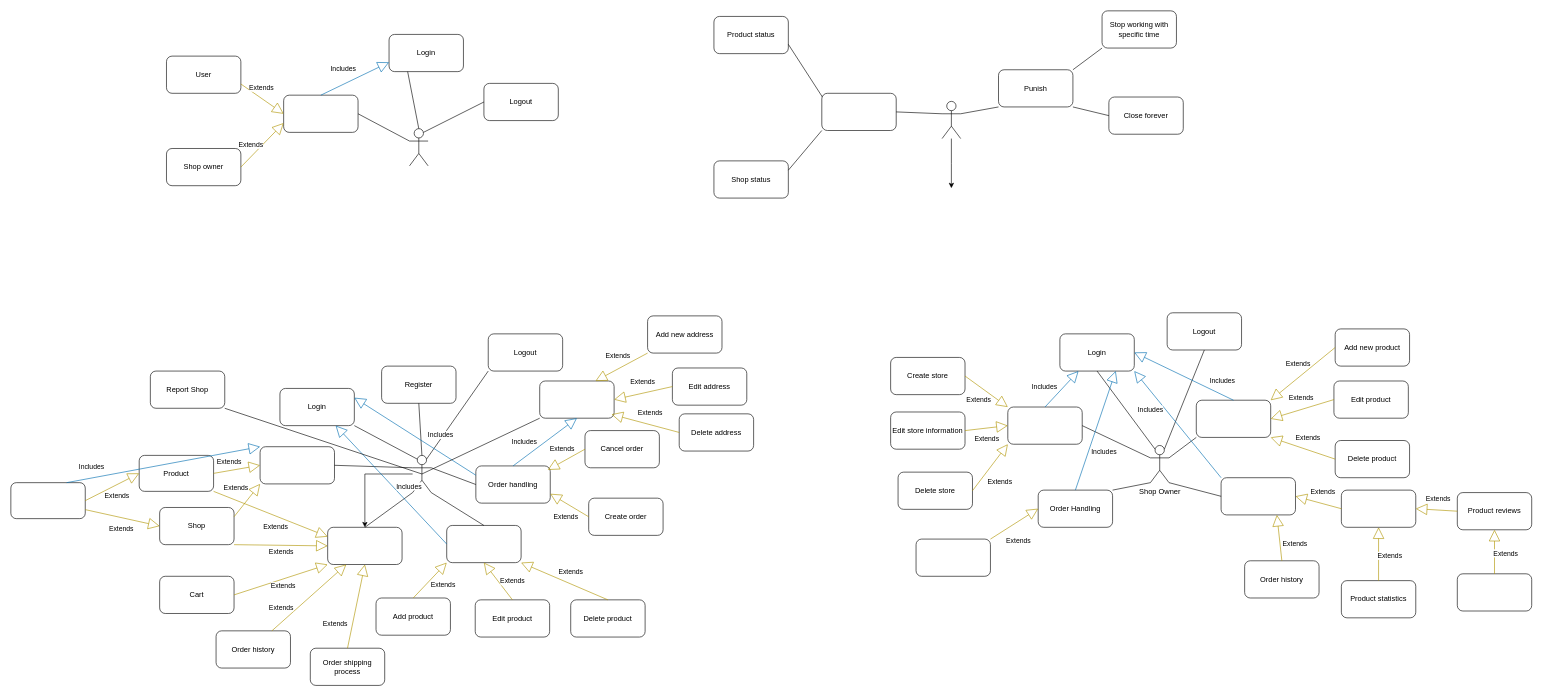
Some shapes in this 1543 by 696 pixel diagram are drawn without their labels. Each missing label, with the centre of its shape:
"Admin" goes at point 418,147.
"Buyer" goes at point 421,474.
"By name" goes at point 47,500.
"Cart handling" goes at point 483,544.
"Confirm order" goes at point 952,557.
"Feedback" goes at point 1494,592.
"Notifi user" goes at point 858,112.
"Notifications" goes at point 320,113.
"Product added" goes at point 1378,508.
"Product Handling" goes at point 1233,418.
"Search" goes at point 296,465.
"Shipping address operations" goes at point 576,399.
"Store handling" goes at point 1044,425.
"System" goes at point 951,120.
"View" goes at point 364,546.
"Views" goes at point 1257,496.
